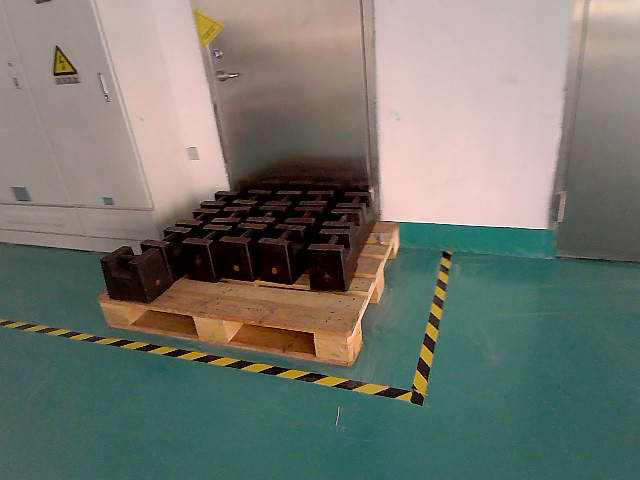block: (310, 316, 365, 364), (193, 315, 229, 345), (97, 300, 129, 332), (370, 264, 385, 299), (388, 233, 404, 253)
front: (349, 225, 403, 365)
hole pallet: (359, 292, 380, 340), (378, 236, 396, 285)
